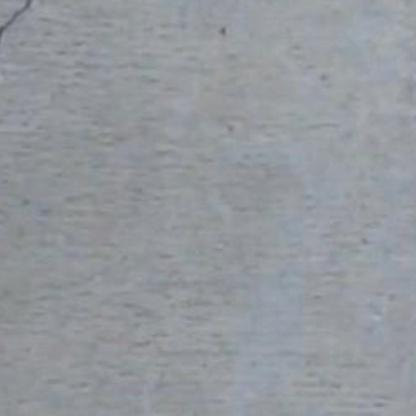Cracks: (0, 0, 53, 85)
